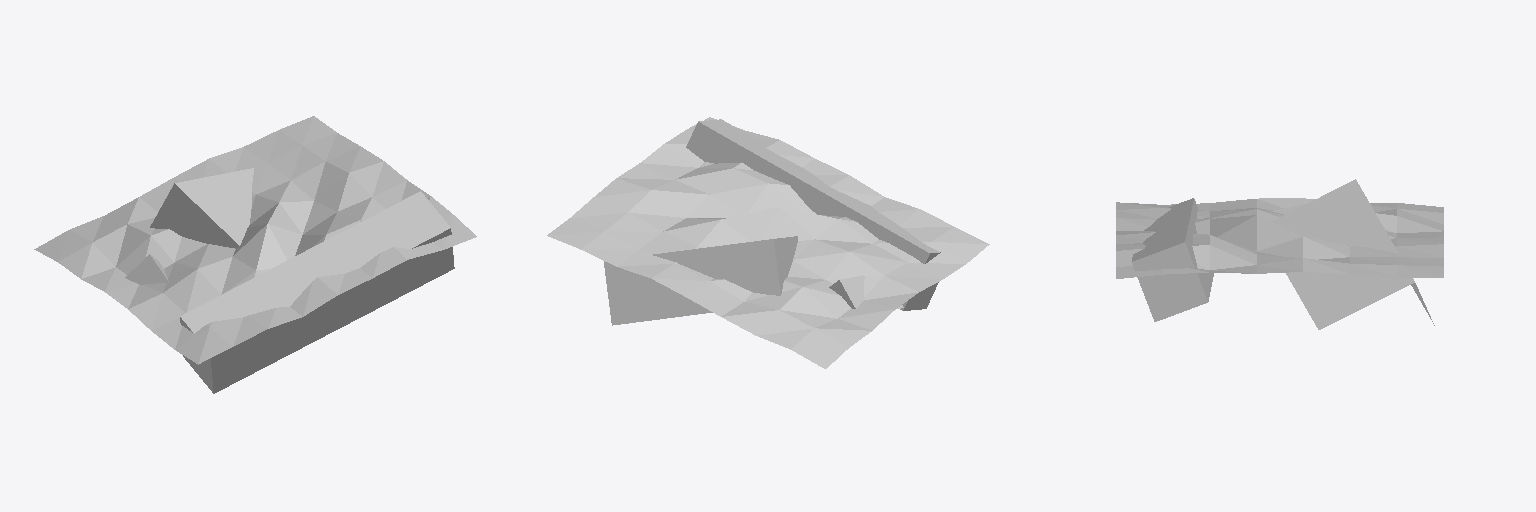
The model's file is Dumpster_Garbage.obj.
3 renders of one model, left to right at view 1: azimuth 30°, elevation 25°; view 2: azimuth 150°, elevation 25°; view 3: azimuth 270°, elevation 25°, orthographic.
Parts seen in each view (by area): view 1: Dumpster_Garbage_Dumpster.003; view 2: Dumpster_Garbage_Dumpster.003; view 3: Dumpster_Garbage_Dumpster.003.
Part boxes in pixels (left/top/right/bottom): Dumpster_Garbage_Dumpster.003: left=34, top=116, right=476, bottom=393; Dumpster_Garbage_Dumpster.003: left=547, top=117, right=989, bottom=368; Dumpster_Garbage_Dumpster.003: left=1116, top=179, right=1443, bottom=329.
Size of the model in its own units: 1.72 by 0.8342 by 1.74.